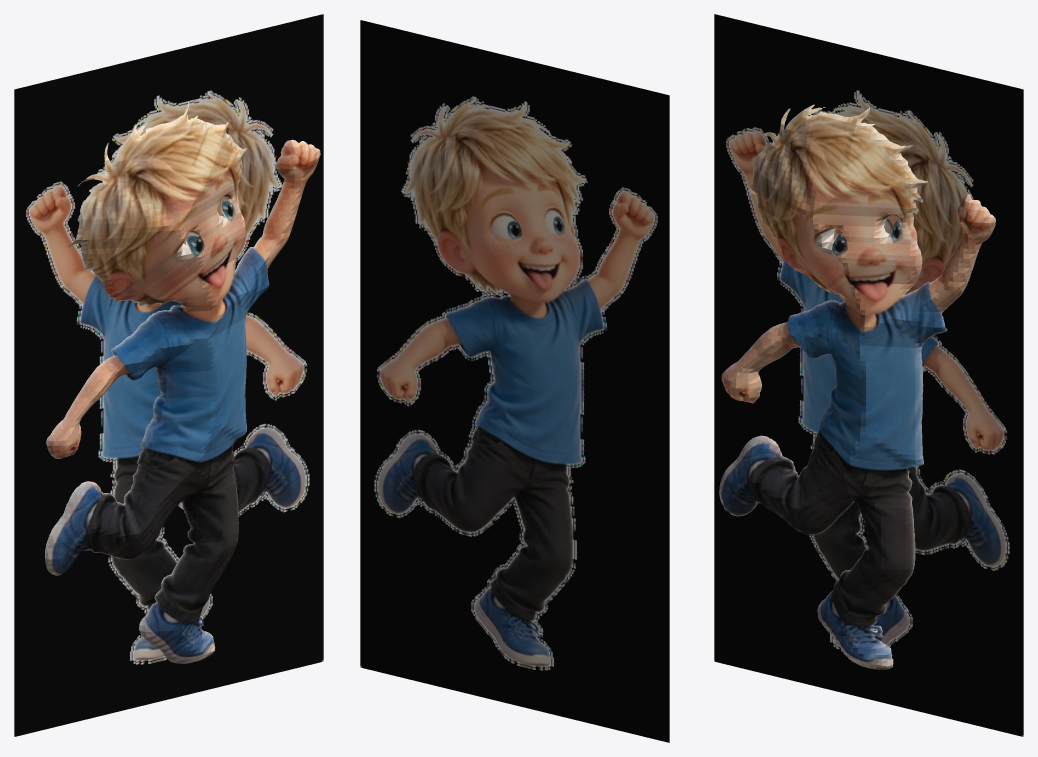
Rendered from WhatsApp_Image_2026-10-28_at_08_1c2_05.obj.
3 views of the same model, side by side, from view 1: azimuth 30°, elevation 25°; view 2: azimuth 150°, elevation 25°; view 3: azimuth 330°, elevation 25° (orthographic).
Size of the model in its own units: 1 by 2 by 0.19.
Materials: 2 (2 with a texture image).
